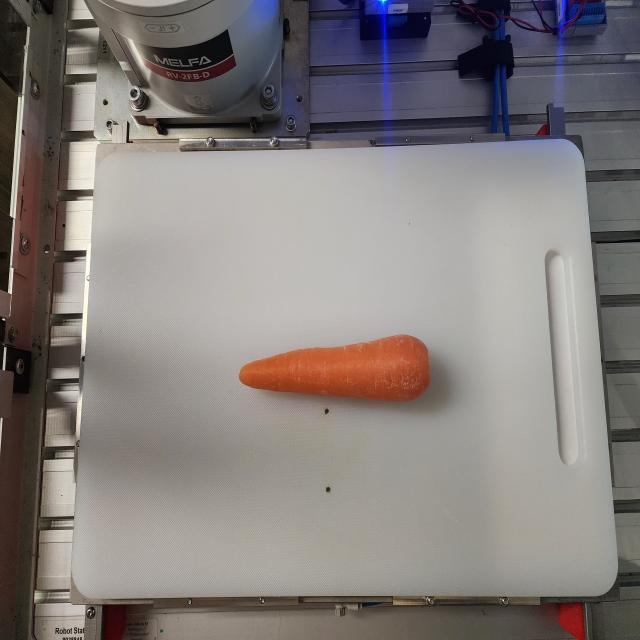carrot: (238, 334, 431, 402)
